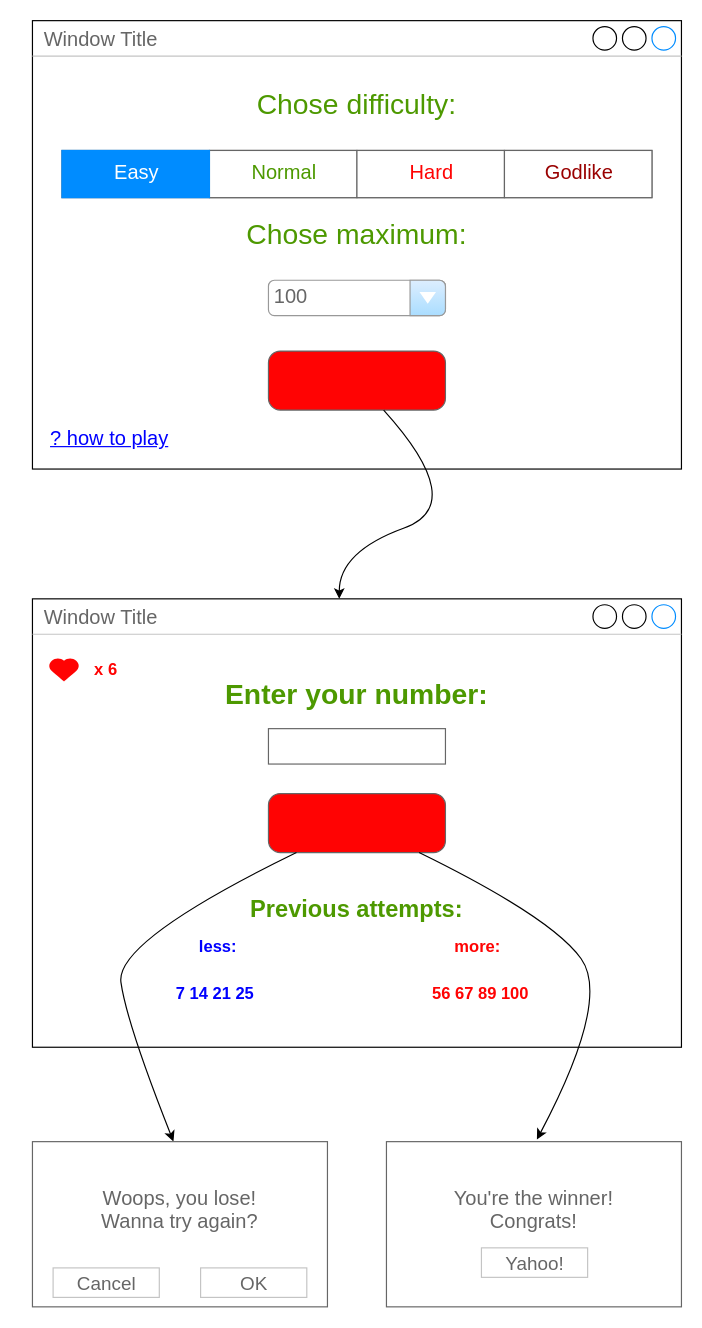
The diagram is 702 pixels wide and 1328 high, and some of its shapes have lost their labels. Here are the shapes that lost their labels. From the top down, the centre of each, then its label:
At (356,380): "Push to start".
At (356,745): "Your quess here!".
At (356,822): "Check".
